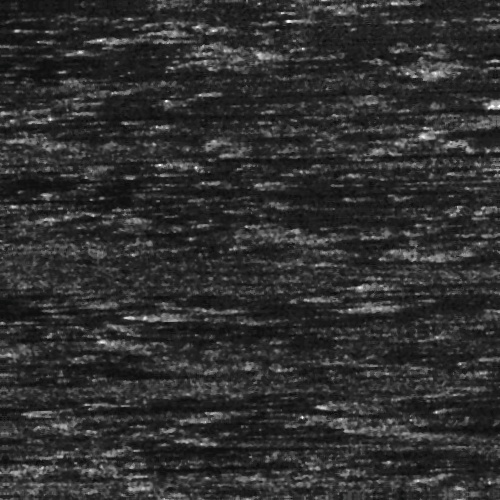object: (352, 419, 445, 434), (125, 307, 240, 316), (130, 154, 235, 163), (406, 129, 489, 140), (16, 400, 89, 409), (65, 31, 158, 38), (319, 401, 402, 408), (357, 285, 430, 290), (292, 295, 365, 300), (96, 443, 149, 448), (367, 306, 398, 313), (107, 464, 138, 467)
shadow: (183, 307, 500, 316), (0, 170, 261, 179), (52, 400, 308, 409), (0, 47, 135, 60), (399, 419, 500, 434), (0, 180, 260, 185), (361, 401, 500, 408), (123, 443, 316, 448), (328, 295, 500, 300), (383, 306, 500, 313), (183, 154, 256, 163), (447, 129, 500, 140), (111, 31, 187, 38), (394, 285, 500, 290), (123, 464, 251, 467)
